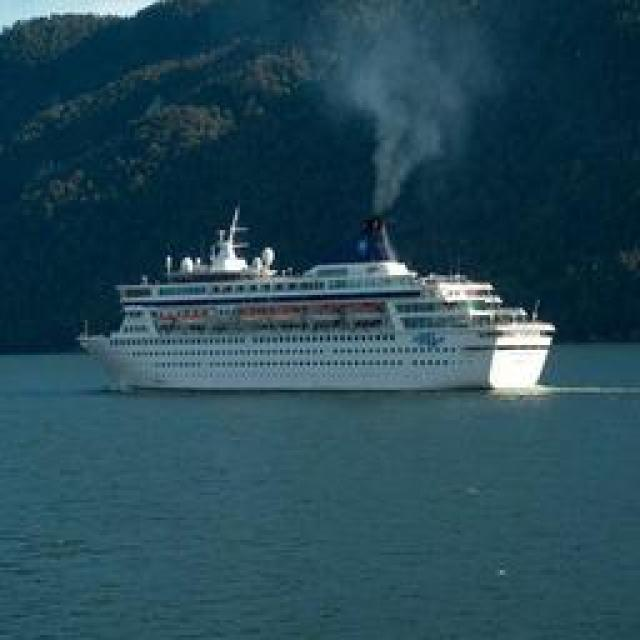CIV_Ship: (89, 214, 559, 394)
